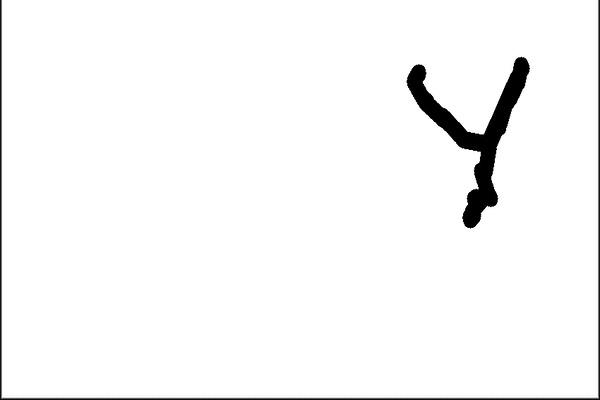Y: (396, 45, 537, 233)
